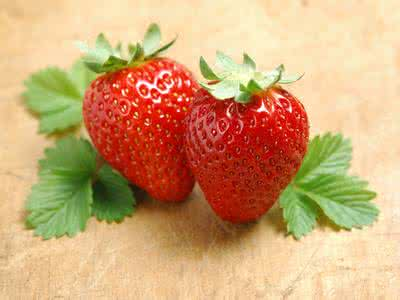strawberry: (76, 33, 210, 202), (189, 48, 311, 230)
